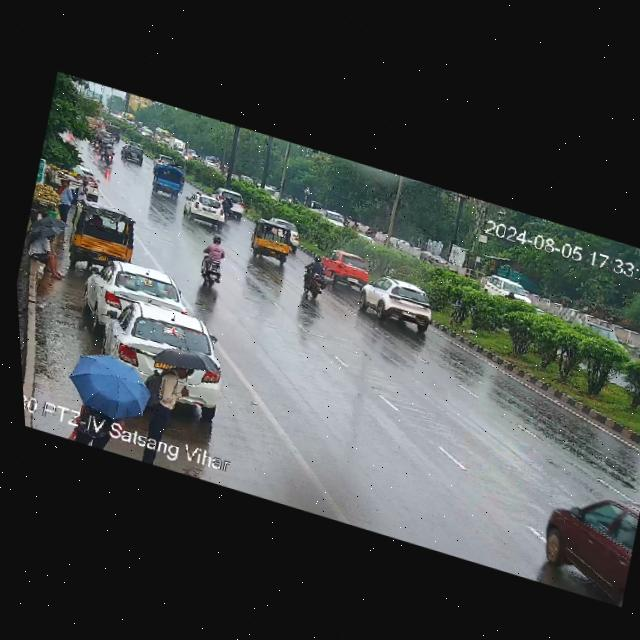car: (523, 473, 640, 608), (90, 291, 221, 390), (78, 249, 192, 337), (63, 197, 146, 274), (358, 267, 449, 337), (240, 213, 296, 268), (317, 244, 375, 292), (49, 157, 109, 201), (176, 188, 229, 231), (482, 271, 538, 306), (210, 185, 248, 219), (415, 249, 456, 273), (117, 141, 146, 168), (282, 220, 305, 254), (153, 152, 171, 169)
motorcycle: (190, 231, 240, 295), (296, 250, 340, 304), (216, 193, 236, 218), (503, 287, 517, 300)
person: (139, 340, 224, 426), (21, 228, 76, 285), (49, 175, 78, 222), (75, 176, 92, 202)
truck: (146, 159, 186, 201)
